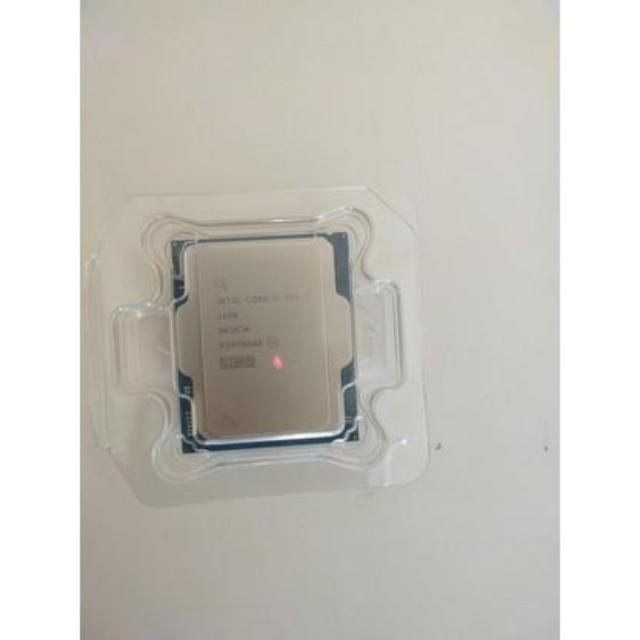CPU: (171, 238, 357, 444)
